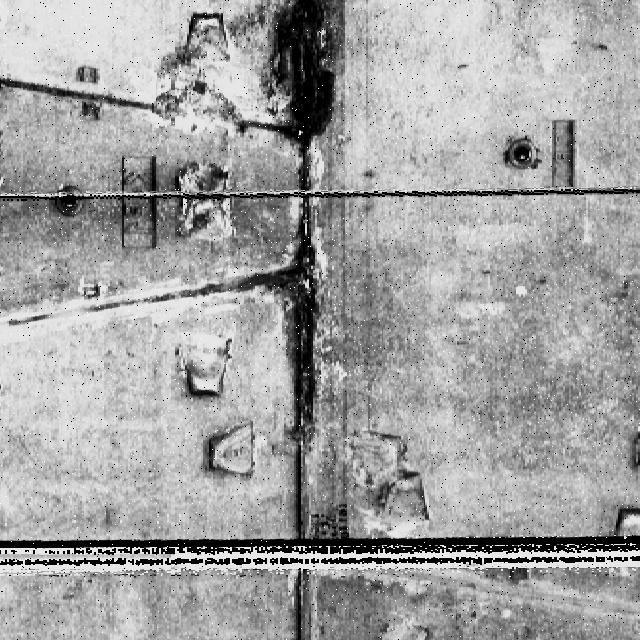leakage: (250, 200, 334, 449), (246, 1, 354, 189)
